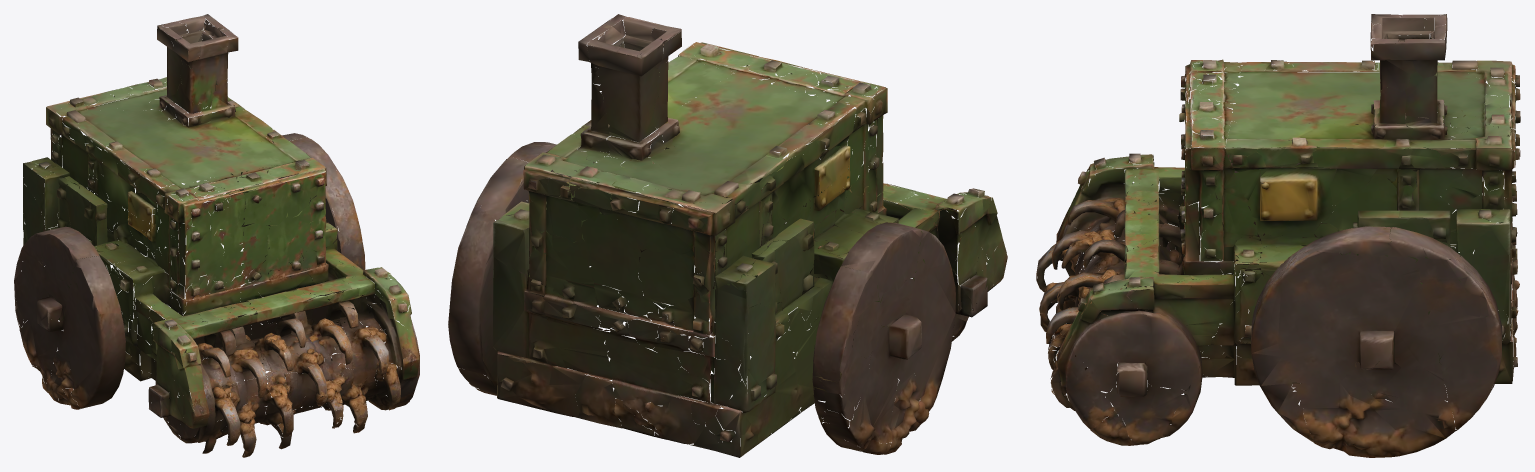
Rendered from tiller.glb.
The picture shows the model from 3 angles, left to right: view 1: azimuth 30°, elevation 25°; view 2: azimuth 150°, elevation 25°; view 3: azimuth 270°, elevation 25°; orthographic projection. The views are drawn at different scales.
Visible parts, largest first — view 1: tripo_node_9fa7ab43-37bb-4528-beb9-c3fde0ea6144; view 2: tripo_node_9fa7ab43-37bb-4528-beb9-c3fde0ea6144; view 3: tripo_node_9fa7ab43-37bb-4528-beb9-c3fde0ea6144.
Boxes of the visible parts, left/top/right/bottom form: tripo_node_9fa7ab43-37bb-4528-beb9-c3fde0ea6144: left=14, top=14, right=419, bottom=457; tripo_node_9fa7ab43-37bb-4528-beb9-c3fde0ea6144: left=448, top=14, right=1007, bottom=457; tripo_node_9fa7ab43-37bb-4528-beb9-c3fde0ea6144: left=1036, top=14, right=1520, bottom=457.
Bounding box in the file's own units: 0.8631 × 0.8311 × 0.9811.
1 material, 1 textured.
